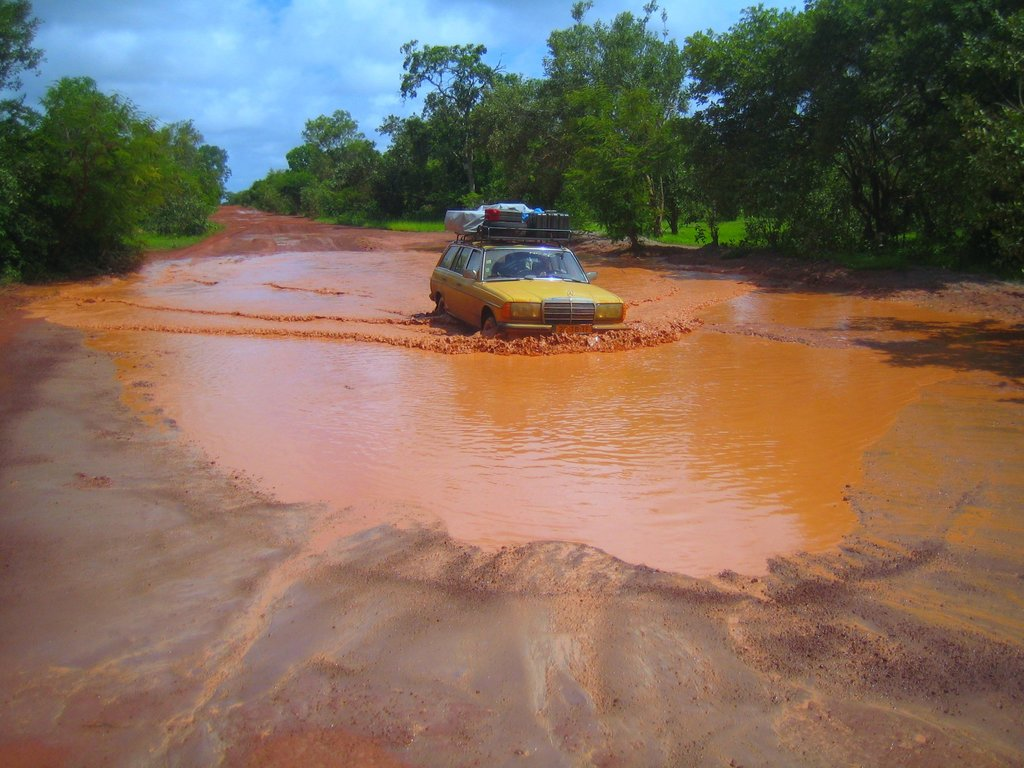Car: (423, 211, 619, 334)
